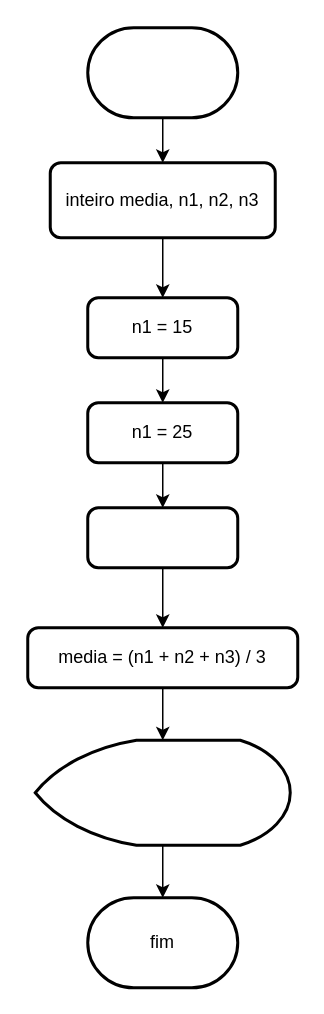
This 324x1014 diagram has some shape labels left out. Each missing label, with the centre of its shape:
"A média dos número é ", media: (162,792)
inicio: (162,72)
n1 = 32: (162,537)
